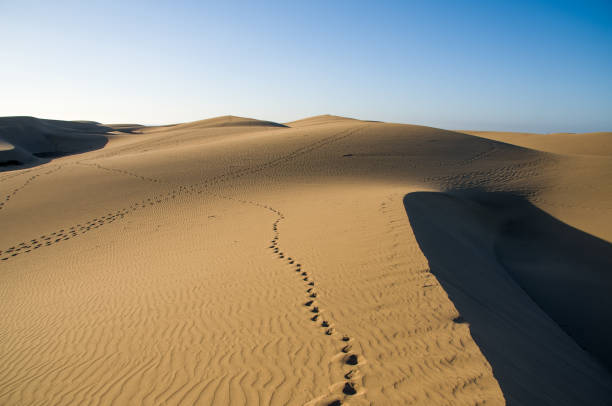animal_foot_print: (72, 128, 356, 236), (247, 201, 360, 403)
